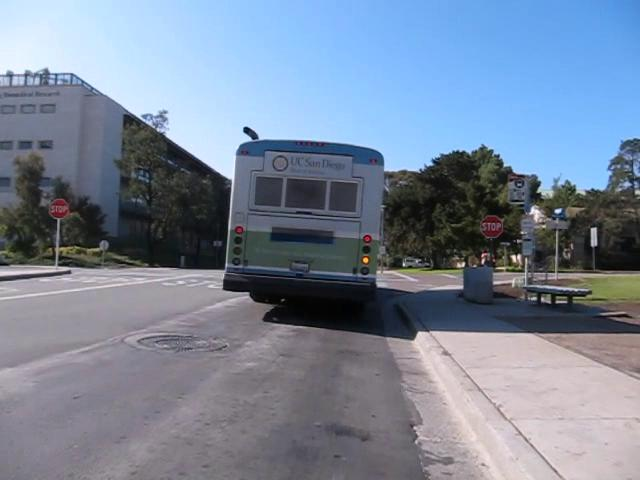stop: (481, 213, 504, 239), (48, 198, 70, 220)
